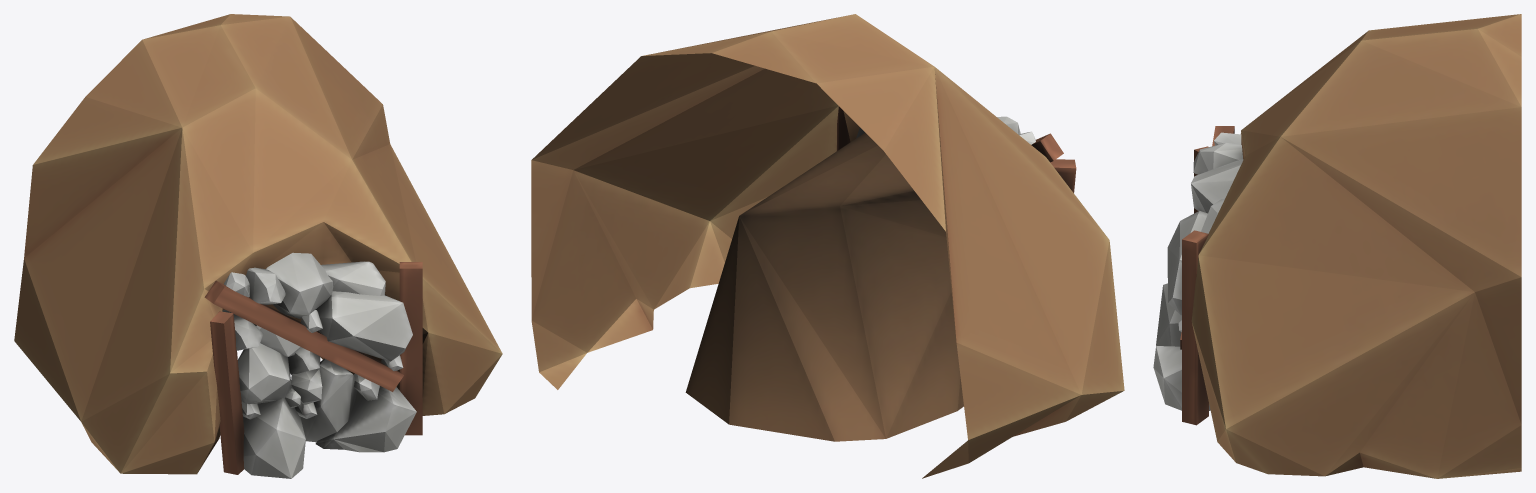
Rendered from Mountain rock_023.fbx.
The picture shows the model from 3 angles, left to right: view 1: azimuth 30°, elevation 25°; view 2: azimuth 150°, elevation 25°; view 3: azimuth 270°, elevation 25°; orthographic projection. The views are drawn at different scales.
Parts seen in each view (by area): view 1: Mountain rock_023; view 2: Mountain rock_023; view 3: Mountain rock_023.
Boxes of the visible parts, left/top/right/bottom form: Mountain rock_023: left=14, top=14, right=502, bottom=478; Mountain rock_023: left=531, top=14, right=1124, bottom=478; Mountain rock_023: left=1153, top=14, right=1521, bottom=478.
Bounding box in the file's own units: 152 × 124 × 116.
